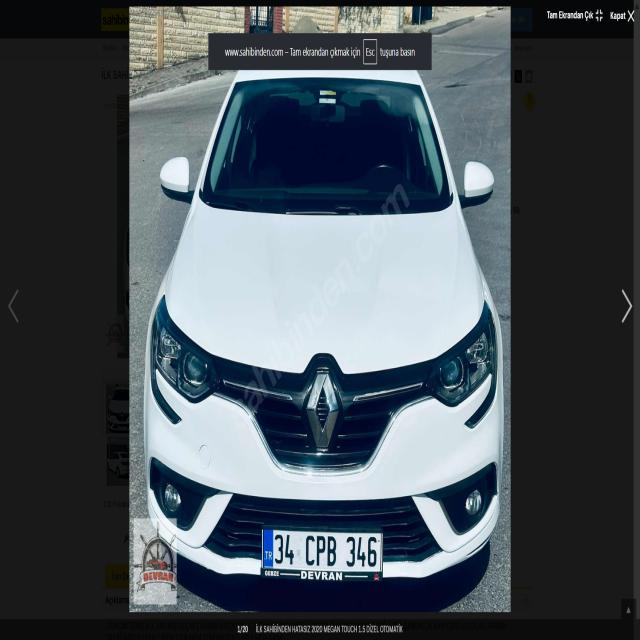renault: (300, 351, 348, 468)
